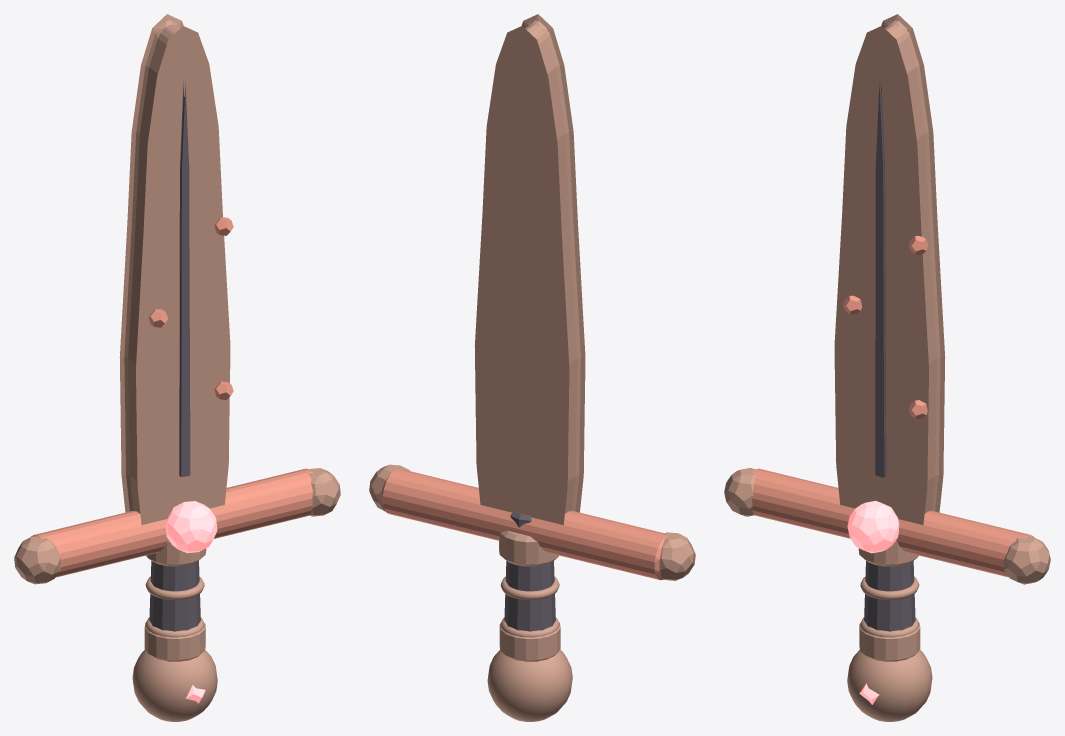
Rendered from dual-pair-01-crimson-twinflame.glb.
The picture shows the model from 3 angles, left to right: view 1: azimuth 30°, elevation 25°; view 2: azimuth 150°, elevation 25°; view 3: azimuth 330°, elevation 25°; orthographic projection.
Visible parts, largest first — view 1: dual-pair-01-crimson-twinflame_ForgedBlade.001, dual-pair-01-crimson-twinflame_Crossguard.001, dual-pair-01-crimson-twinflame_Pommel.001, dual-pair-01-crimson-twinflame_ColoredFuller.001, dual-pair-01-crimson-twinflame_LeatherGrip.001, dual-pair-01-crimson-twinflame_GuardGem.001, dual-pair-01-crimson-twinflame_GuardEnd_-1.001, dual-pair-01-crimson-twinflame_LowerFerrule.001, dual-pair-01-crimson-twinflame_GuardEnd_1.001, dual-pair-01-crimson-twinflame_UpperFerrule.001, dual-pair-01-crimson-twinflame_GripBinding_2.001; view 2: dual-pair-01-crimson-twinflame_ForgedBlade.001, dual-pair-01-crimson-twinflame_Crossguard.001, dual-pair-01-crimson-twinflame_Pommel.001, dual-pair-01-crimson-twinflame_LeatherGrip.001, dual-pair-01-crimson-twinflame_LowerFerrule.001, dual-pair-01-crimson-twinflame_UpperFerrule.001, dual-pair-01-crimson-twinflame_GuardEnd_-1.001, dual-pair-01-crimson-twinflame_GuardEnd_1.001, dual-pair-01-crimson-twinflame_GripBinding_2.001; view 3: dual-pair-01-crimson-twinflame_ForgedBlade.001, dual-pair-01-crimson-twinflame_Crossguard.001, dual-pair-01-crimson-twinflame_Pommel.001, dual-pair-01-crimson-twinflame_ColoredFuller.001, dual-pair-01-crimson-twinflame_LeatherGrip.001, dual-pair-01-crimson-twinflame_GuardGem.001, dual-pair-01-crimson-twinflame_GuardEnd_1.001, dual-pair-01-crimson-twinflame_LowerFerrule.001, dual-pair-01-crimson-twinflame_GuardEnd_-1.001, dual-pair-01-crimson-twinflame_UpperFerrule.001, dual-pair-01-crimson-twinflame_GripBinding_2.001.
Part boxes in pixels (left/top/right/bottom): dual-pair-01-crimson-twinflame_ForgedBlade.001: left=119, top=14, right=230, bottom=524; dual-pair-01-crimson-twinflame_Crossguard.001: left=31, top=468, right=313, bottom=577; dual-pair-01-crimson-twinflame_Pommel.001: left=132, top=650, right=217, bottom=721; dual-pair-01-crimson-twinflame_ColoredFuller.001: left=179, top=81, right=190, bottom=476; dual-pair-01-crimson-twinflame_LeatherGrip.001: left=149, top=561, right=200, bottom=631; dual-pair-01-crimson-twinflame_GuardGem.001: left=165, top=501, right=217, bottom=553; dual-pair-01-crimson-twinflame_GuardEnd_-1.001: left=14, top=536, right=60, bottom=584; dual-pair-01-crimson-twinflame_LowerFerrule.001: left=144, top=622, right=205, bottom=661; dual-pair-01-crimson-twinflame_GuardEnd_1.001: left=308, top=468, right=340, bottom=516; dual-pair-01-crimson-twinflame_UpperFerrule.001: left=146, top=541, right=206, bottom=566; dual-pair-01-crimson-twinflame_GripBinding_2.001: left=145, top=576, right=204, bottom=599; dual-pair-01-crimson-twinflame_ForgedBlade.001: left=474, top=14, right=585, bottom=524; dual-pair-01-crimson-twinflame_Crossguard.001: left=381, top=469, right=668, bottom=580; dual-pair-01-crimson-twinflame_Pommel.001: left=487, top=650, right=572, bottom=721; dual-pair-01-crimson-twinflame_LeatherGrip.001: left=504, top=512, right=555, bottom=631; dual-pair-01-crimson-twinflame_LowerFerrule.001: left=499, top=622, right=560, bottom=661; dual-pair-01-crimson-twinflame_UpperFerrule.001: left=499, top=530, right=558, bottom=566; dual-pair-01-crimson-twinflame_GuardEnd_-1.001: left=659, top=532, right=695, bottom=580; dual-pair-01-crimson-twinflame_GuardEnd_1.001: left=369, top=464, right=409, bottom=511; dual-pair-01-crimson-twinflame_GripBinding_2.001: left=500, top=576, right=559, bottom=599; dual-pair-01-crimson-twinflame_ForgedBlade.001: left=834, top=14, right=945, bottom=524; dual-pair-01-crimson-twinflame_Crossguard.001: left=751, top=468, right=1034, bottom=577; dual-pair-01-crimson-twinflame_Pommel.001: left=847, top=650, right=932, bottom=721; dual-pair-01-crimson-twinflame_ColoredFuller.001: left=875, top=81, right=886, bottom=477; dual-pair-01-crimson-twinflame_LeatherGrip.001: left=864, top=561, right=915, bottom=631; dual-pair-01-crimson-twinflame_GuardGem.001: left=847, top=500, right=899, bottom=553; dual-pair-01-crimson-twinflame_GuardEnd_1.001: left=1004, top=535, right=1050, bottom=584; dual-pair-01-crimson-twinflame_LowerFerrule.001: left=859, top=622, right=920, bottom=661; dual-pair-01-crimson-twinflame_GuardEnd_-1.001: left=724, top=467, right=755, bottom=516; dual-pair-01-crimson-twinflame_UpperFerrule.001: left=858, top=541, right=918, bottom=566; dual-pair-01-crimson-twinflame_GripBinding_2.001: left=860, top=576, right=919, bottom=599.
Size of the model in its own units: 0.4747 by 0.9889 by 0.1286.
